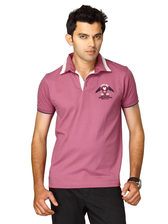clothoes: (40, 51, 140, 190)
watch: (124, 170, 148, 190)
